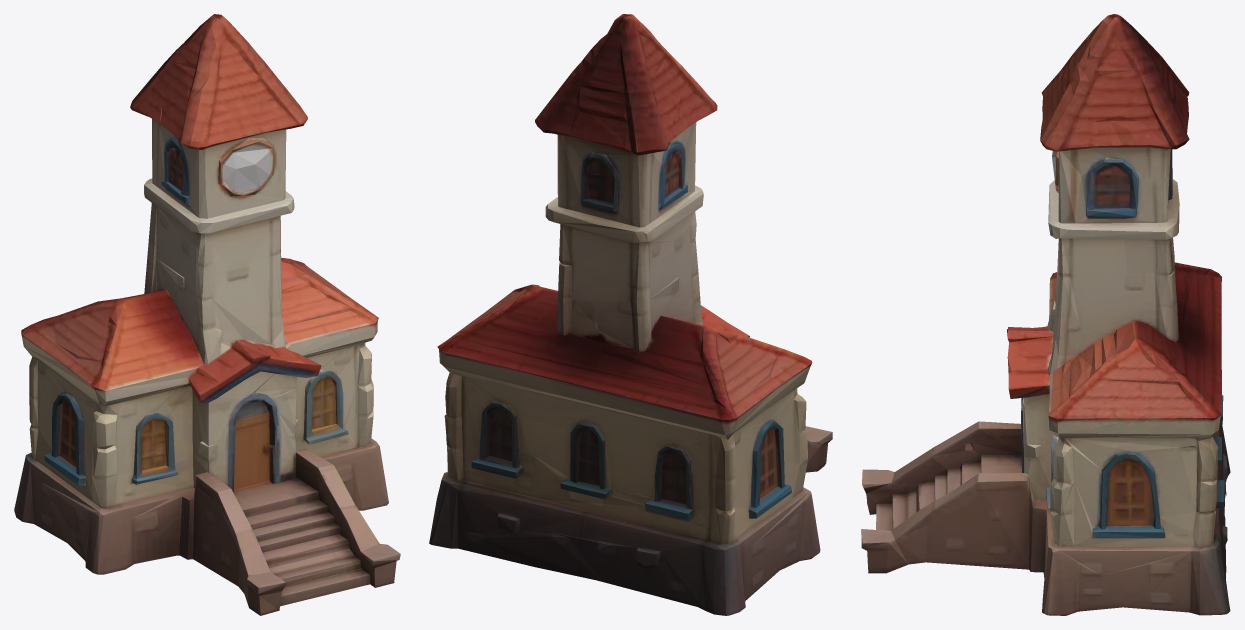
The model's file is b-townhall.glb.
3 renders of one model, left to right at view 1: azimuth 30°, elevation 25°; view 2: azimuth 150°, elevation 25°; view 3: azimuth 270°, elevation 25°, orthographic. The views are drawn at different scales.
Visible parts, largest first — view 1: geometry_0; view 2: geometry_0; view 3: geometry_0.
Boxes of the visible parts, left/top/right/bottom form: geometry_0: left=14, top=14, right=400, bottom=615; geometry_0: left=429, top=14, right=832, bottom=615; geometry_0: left=861, top=14, right=1230, bottom=615.
Size of the model in its own units: 0.6187 by 1 by 0.6333.
1 material, 1 textured.
